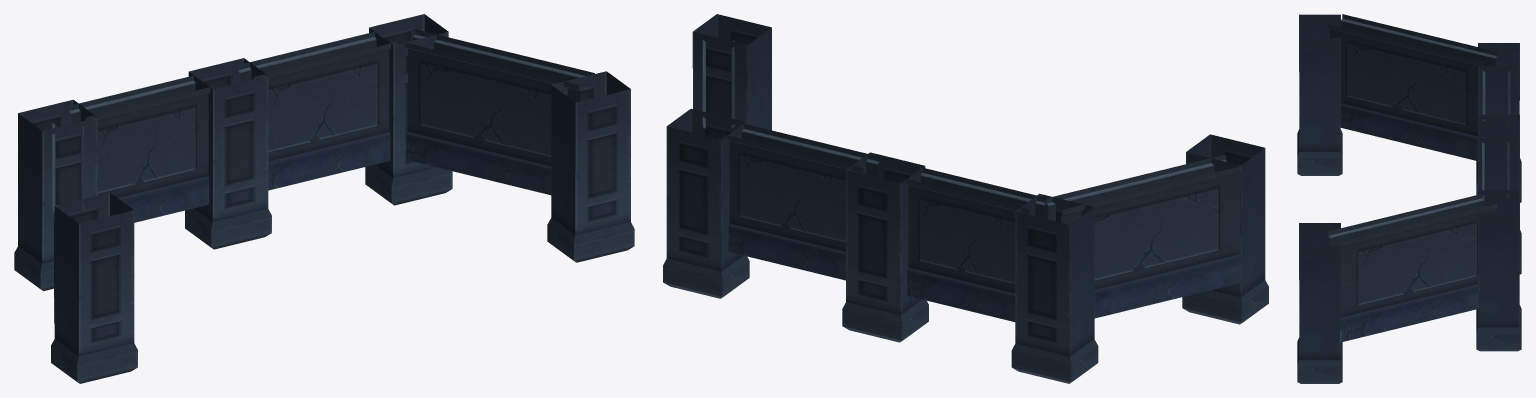
The model's file is qiangbi.FBX.
The picture shows the model from 3 angles, left to right: view 1: azimuth 30°, elevation 25°; view 2: azimuth 150°, elevation 25°; view 3: azimuth 270°, elevation 25°; orthographic projection. The views are drawn at different scales.
Parts seen in each view (by area): view 1: Object304; view 2: Object304; view 3: Object304.
Part boxes in pixels (x1=…): Object304: x1=14, y1=14, x2=634, y2=383; Object304: x1=663, y1=14, x2=1268, y2=383; Object304: x1=1297, y1=14, x2=1521, y2=383.
Size of the model in its own units: 2317 by 642 by 941.
